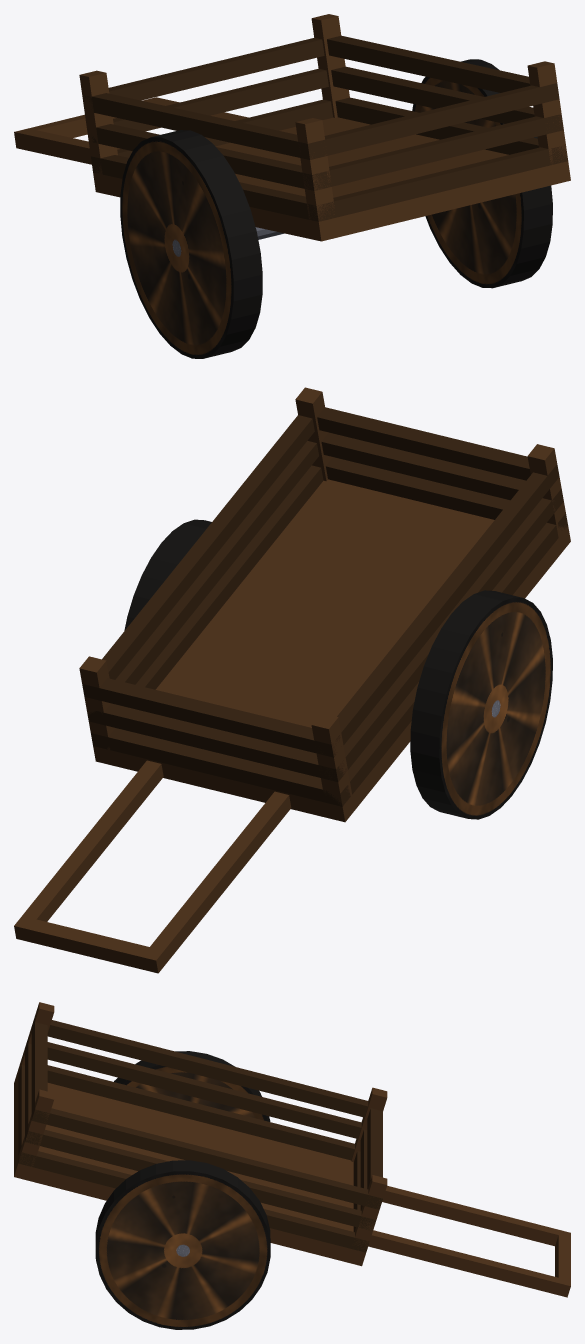
The model's file is holzwagen_t2_blur_world.fbx.
The picture shows the model from 3 angles, top to bottom: view 1: azimuth 30°, elevation 25°; view 2: azimuth 150°, elevation 25°; view 3: azimuth 270°, elevation 25°; orthographic projection. The views are drawn at different scales.
Visible parts, largest first — view 1: Holzwagen_T2_blur; view 2: Holzwagen_T2_blur; view 3: Holzwagen_T2_blur.
Boxes of the visible parts, left/top/right/bottom form: Holzwagen_T2_blur: left=14, top=14, right=570, bottom=358; Holzwagen_T2_blur: left=14, top=387, right=570, bottom=973; Holzwagen_T2_blur: left=14, top=1002, right=570, bottom=1329.
Size of the model in its own units: 110 by 94.74 by 216.
